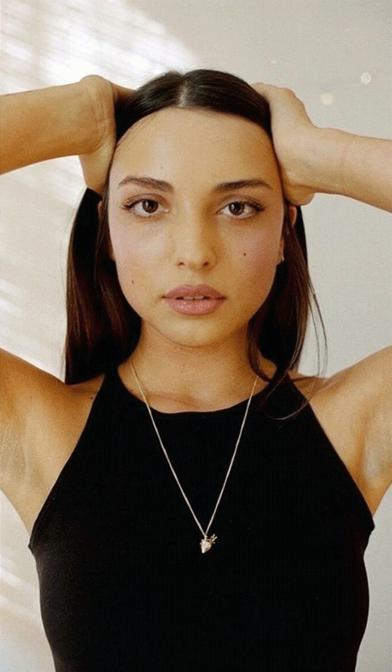Sober: (103, 133, 276, 326)
